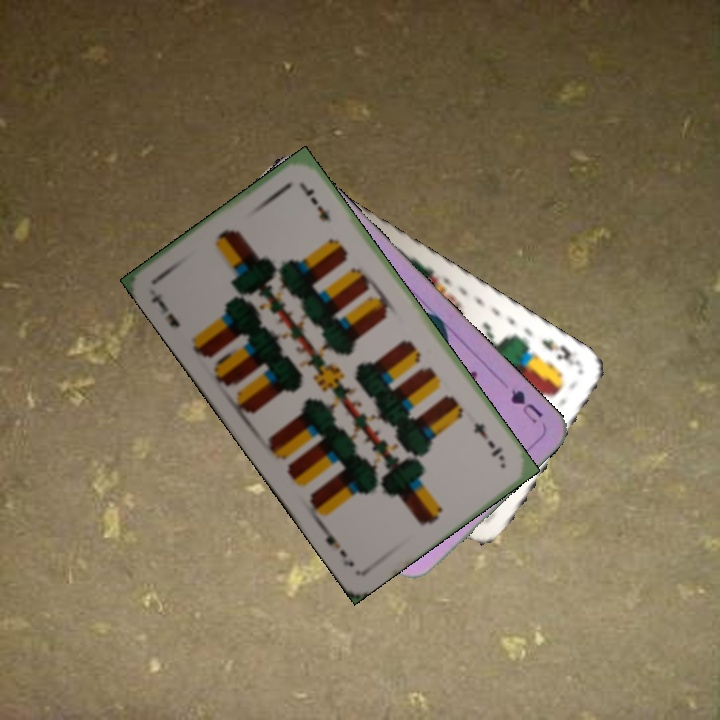E7: (469, 418, 507, 464), (147, 289, 183, 330)
EK: (537, 335, 583, 369)
GU: (506, 383, 546, 426)
